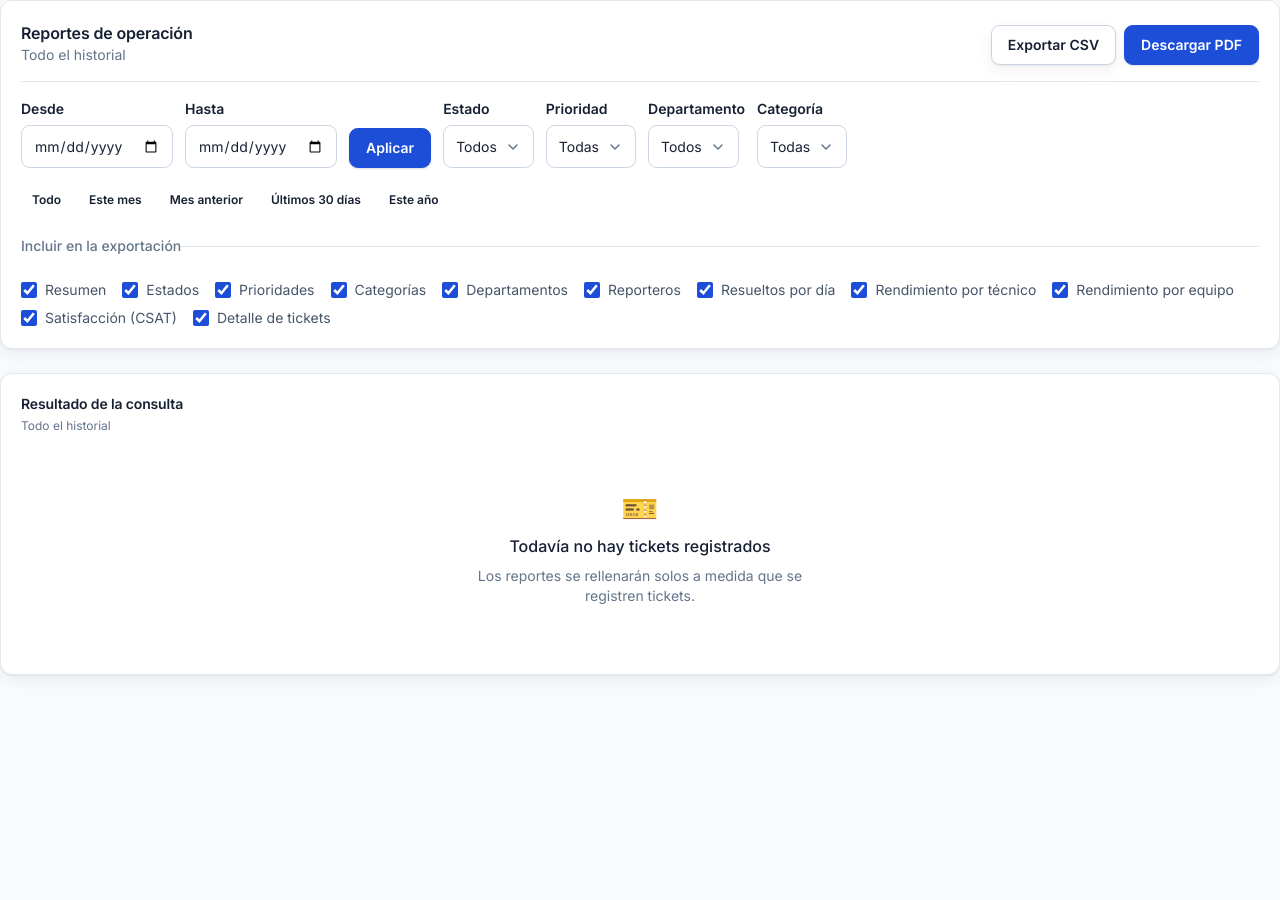
it: Reports: la consulta no devuelve tickets › distingue que los filtros no encontraron resultados y ofrece limpiarlos
Expected: the text "Todavía no hay tickets registrados" is shown, [509, 534, 771, 558]
Click the dropdown named "Estado". click: (488, 146)
box: [443, 125, 534, 168]
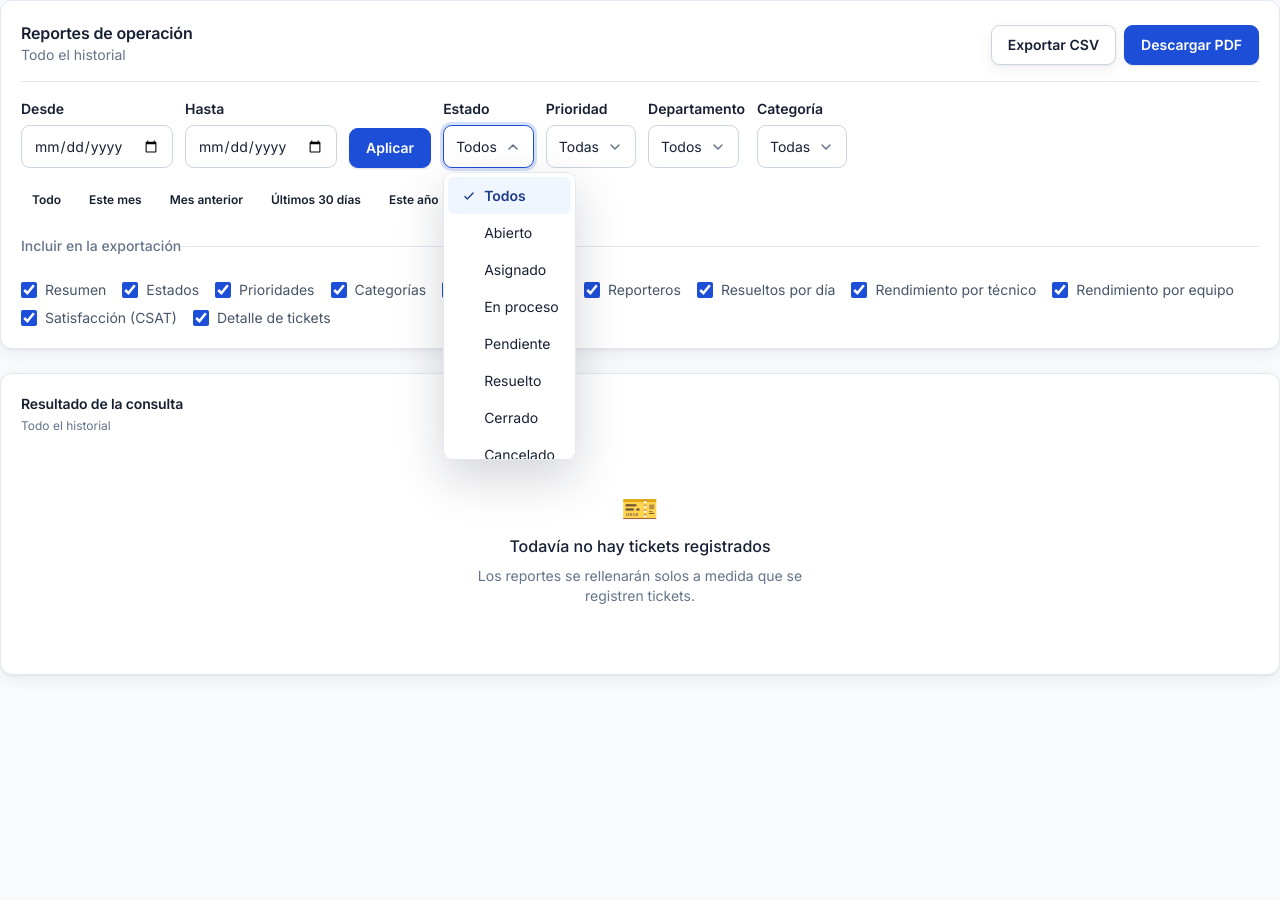
Click the option "Abierto". click: (508, 232)
box: [484, 224, 532, 241]
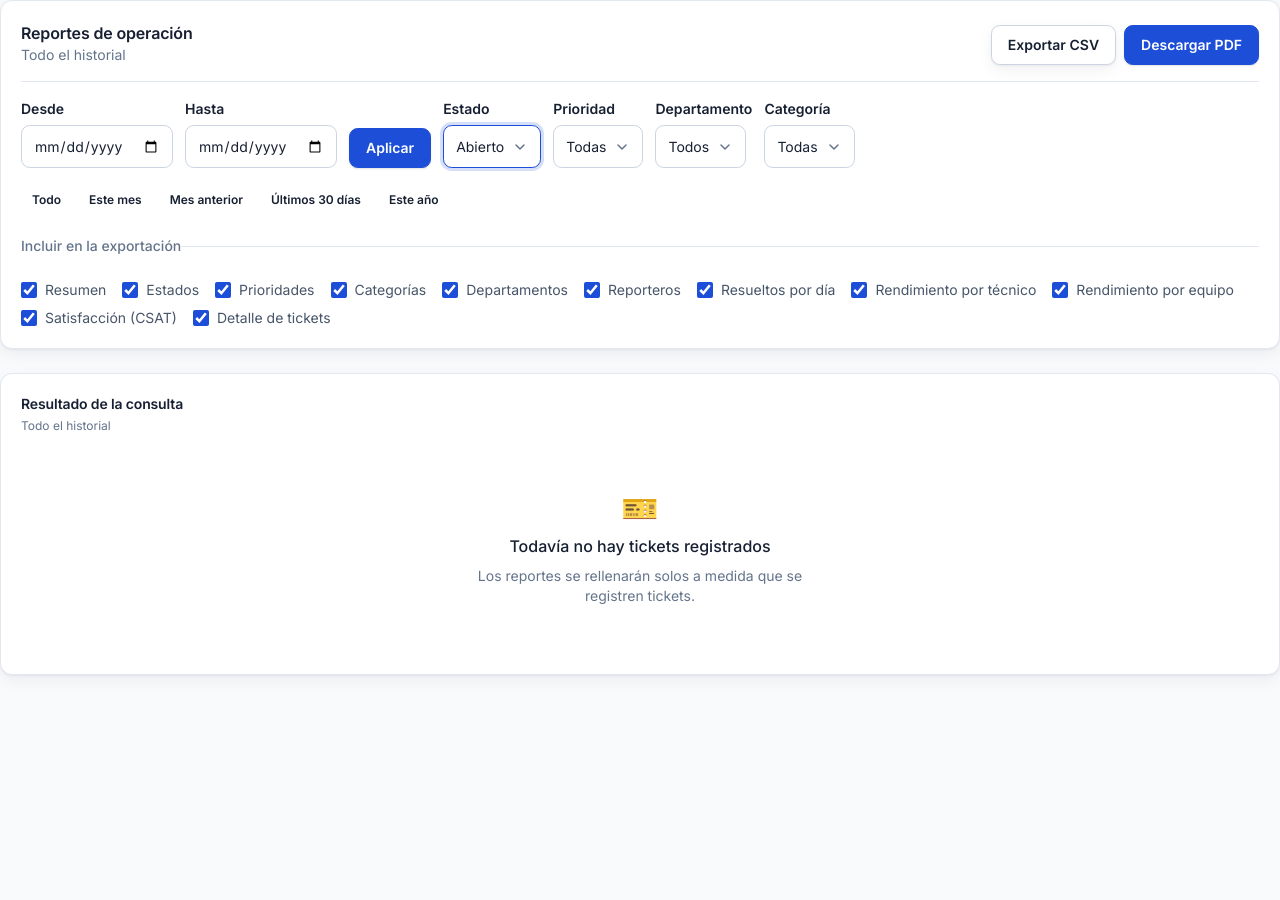
Click the button "Aplicar". click: (390, 148)
box: [349, 128, 431, 168]
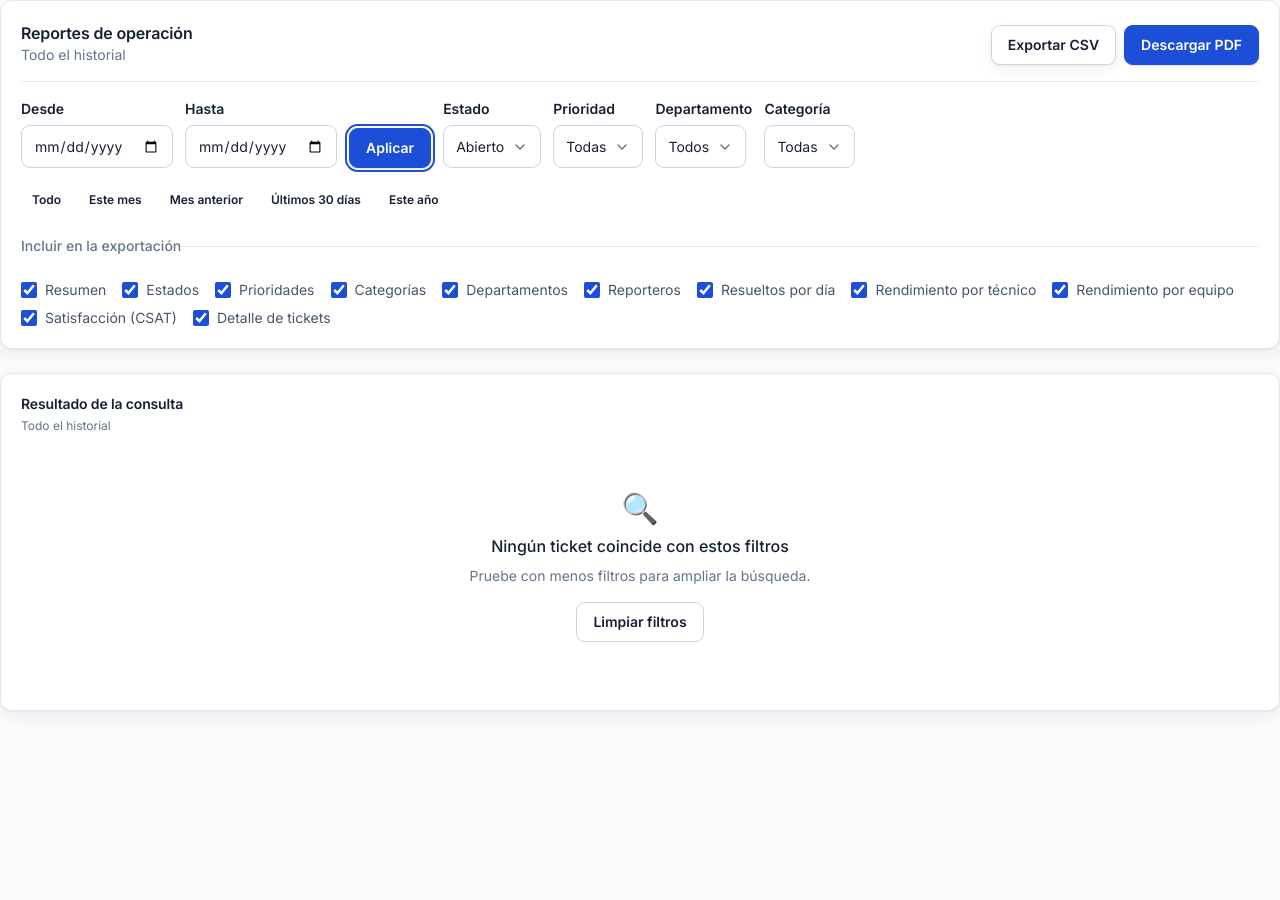
Result: the text "Ningún ticket coincide con estos filtros" is shown at [491, 534, 789, 558]
Result: the text "Todavía no hay tickets registrados" is gone
Click the button "Limpiar filtros". click: (640, 622)
box: [576, 602, 704, 642]
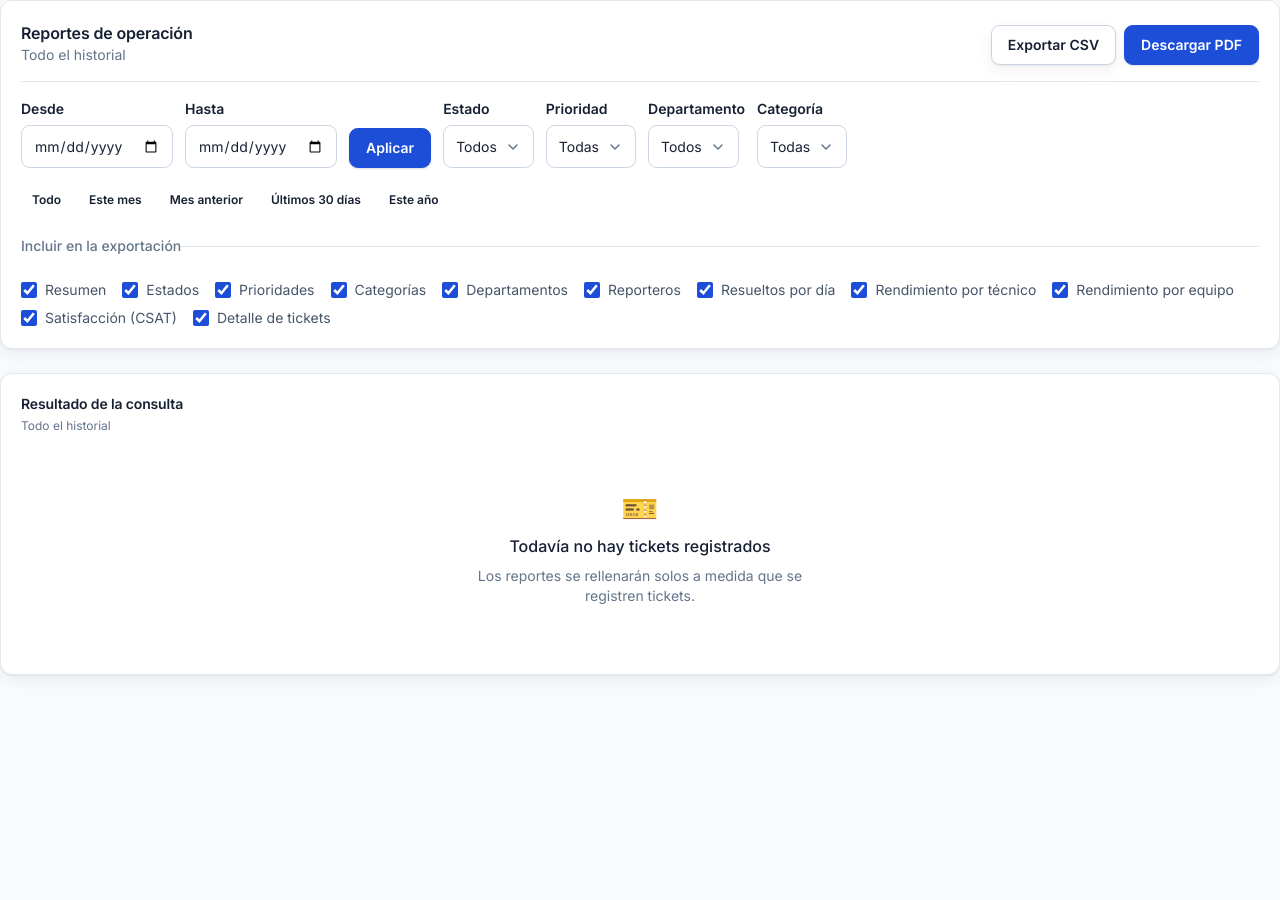
Expected: the date field labelled "Desde" is empty, [21, 125, 173, 168]
Result: the text "Todavía no hay tickets registrados" is shown at [509, 534, 771, 558]
